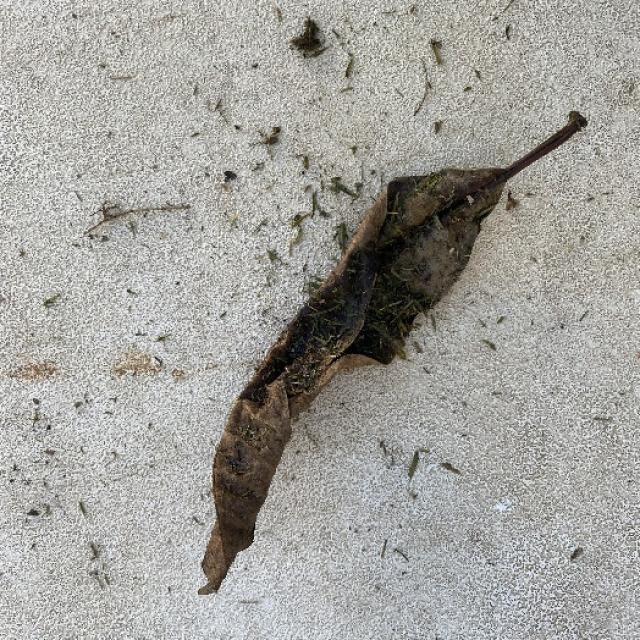organik: (169, 111, 593, 598)
